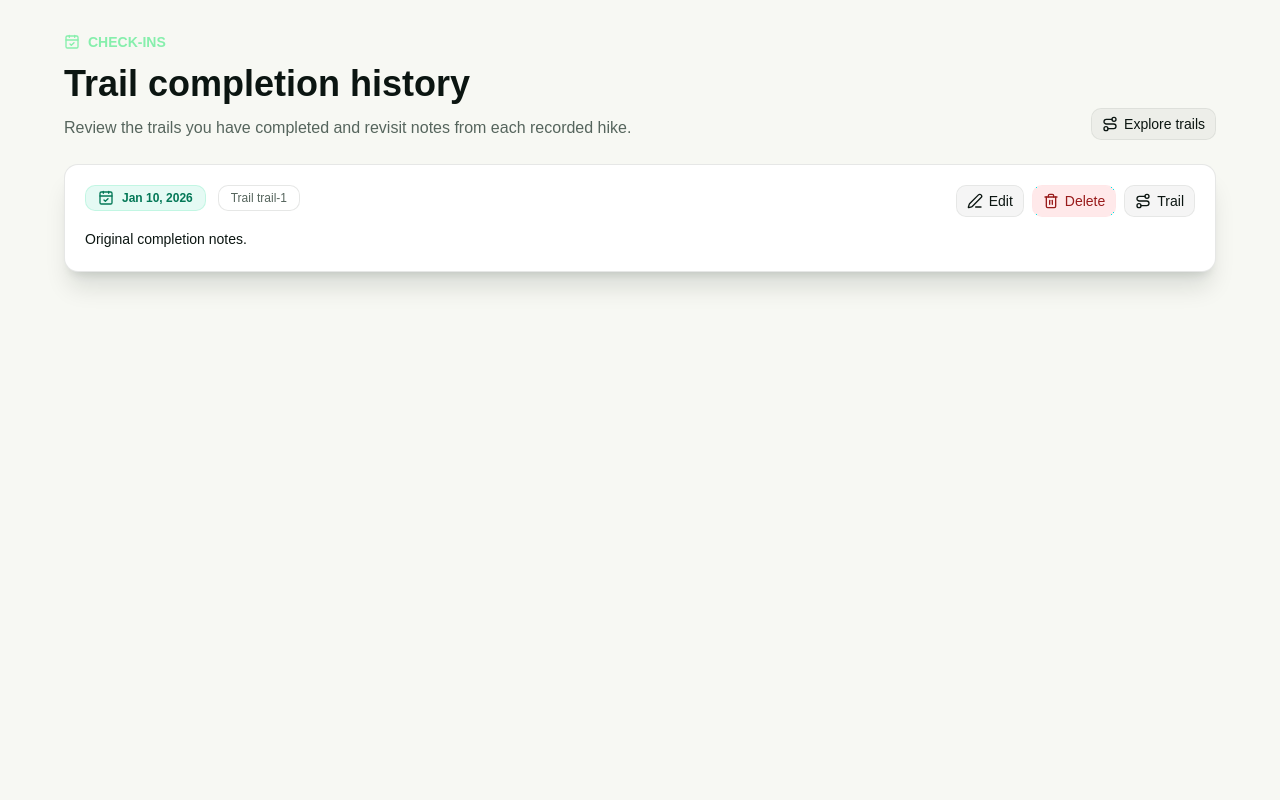
Test: CheckInHistoryPage › updates a check-in and replaces the displayed notes
The width and height of the screenshot is (1280, 800).
Expected: the text "Original completion notes." is shown, [85, 231, 247, 247]
Click the button "Edit".
click(990, 201)  # box [956, 185, 1024, 217]
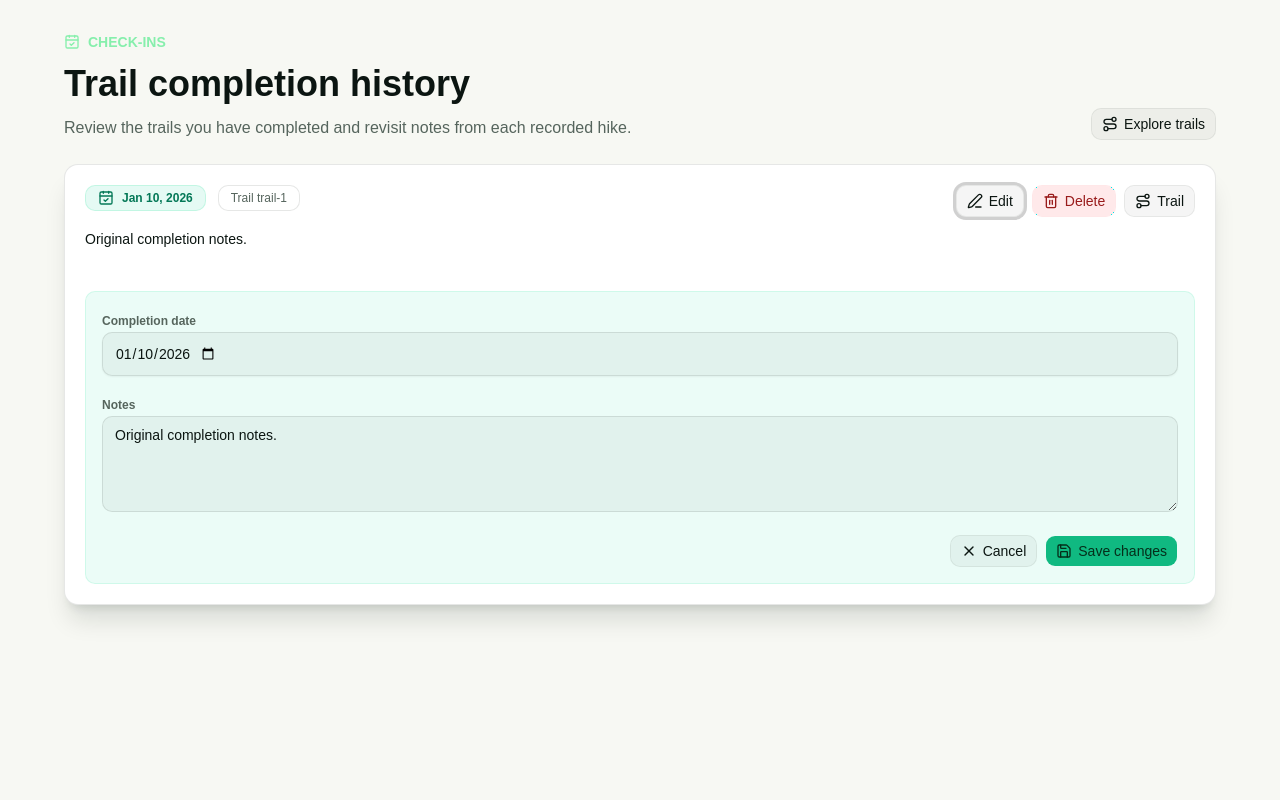
Replace the text in the text box labelled "Notes" with "  Updated completion notes.  " at x=640, y=464, box [102, 416, 1178, 512]
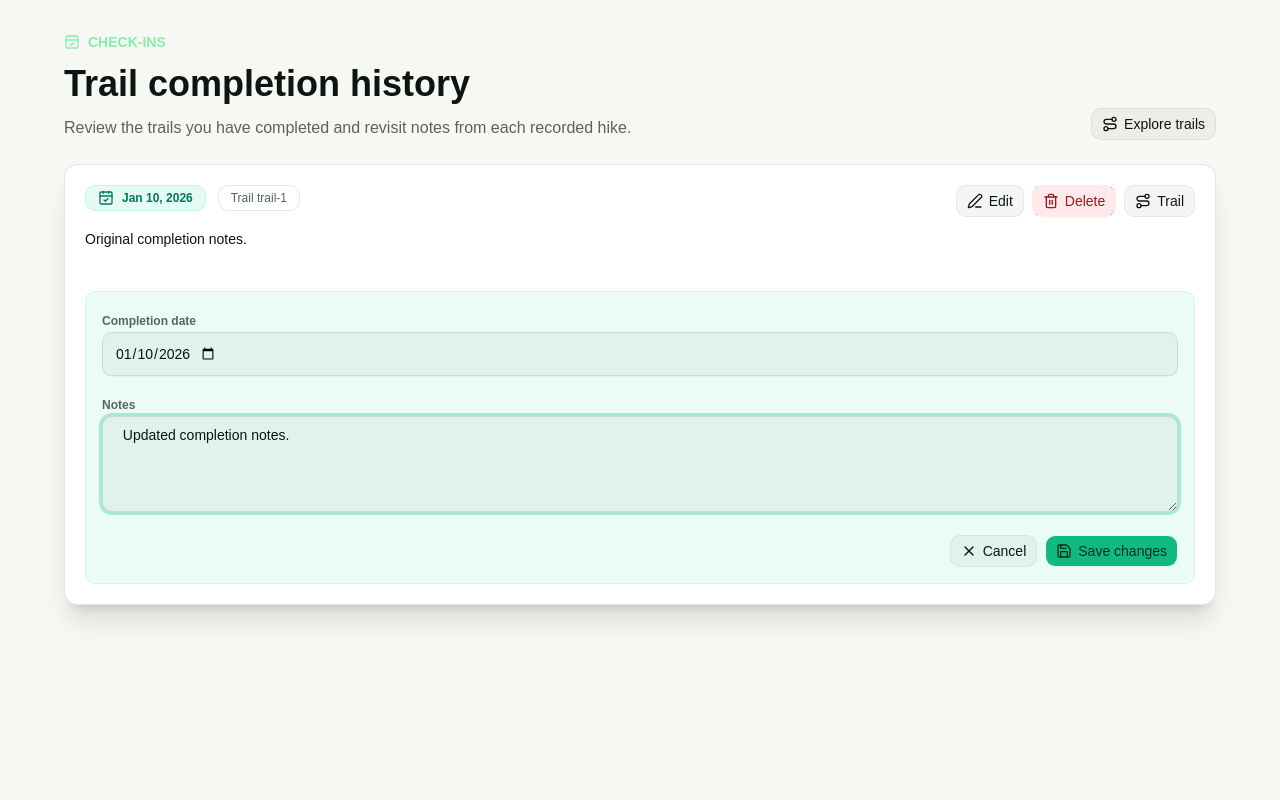
Click the button "Save changes".
click(1112, 551)  # box [1045, 535, 1178, 567]
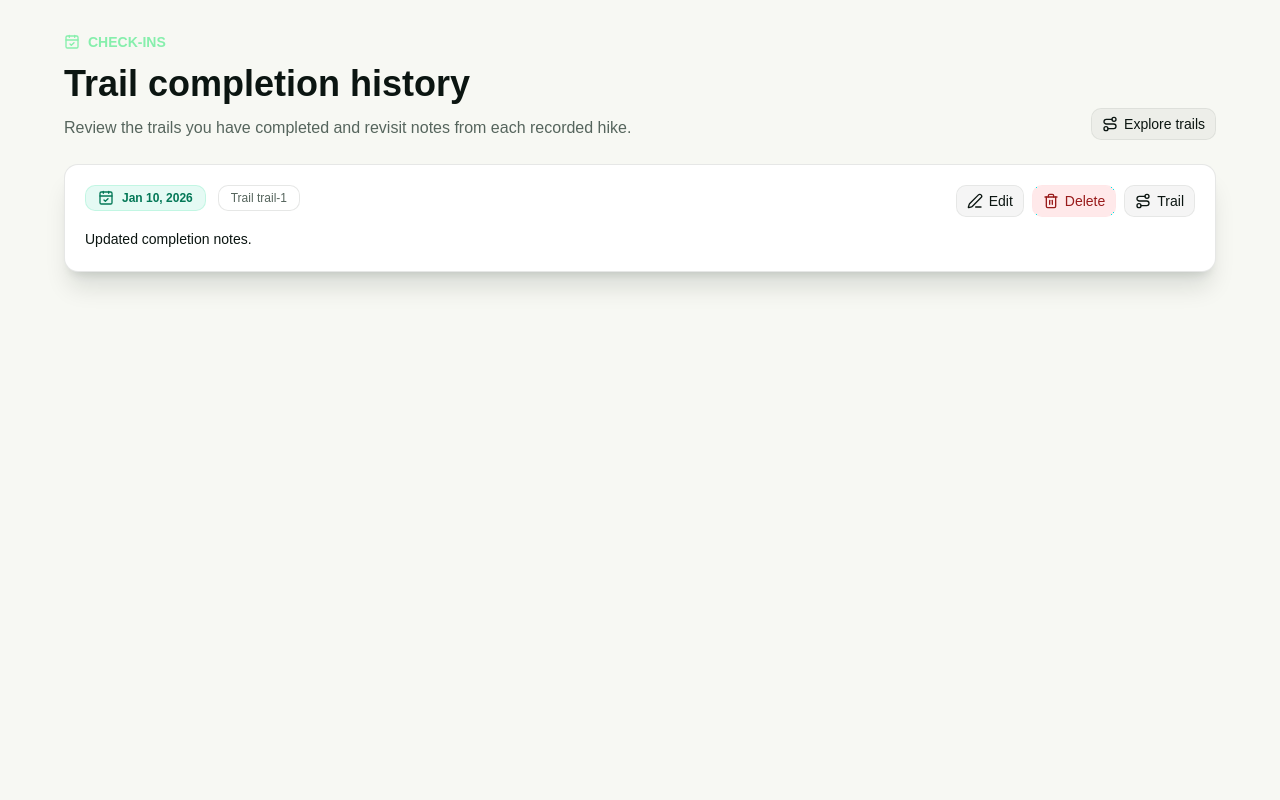
Result: the text "Updated completion notes." is shown at [85, 231, 252, 247]
Result: the text "Original completion notes." is gone
